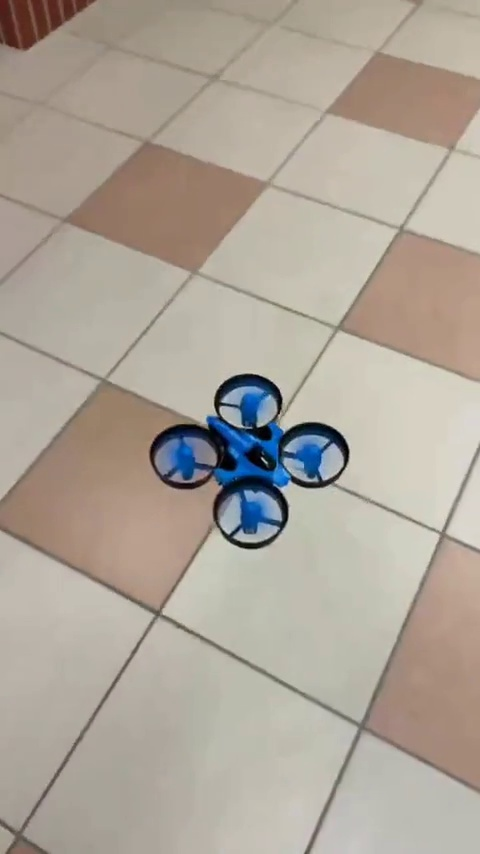drone: (147, 369, 349, 560)
